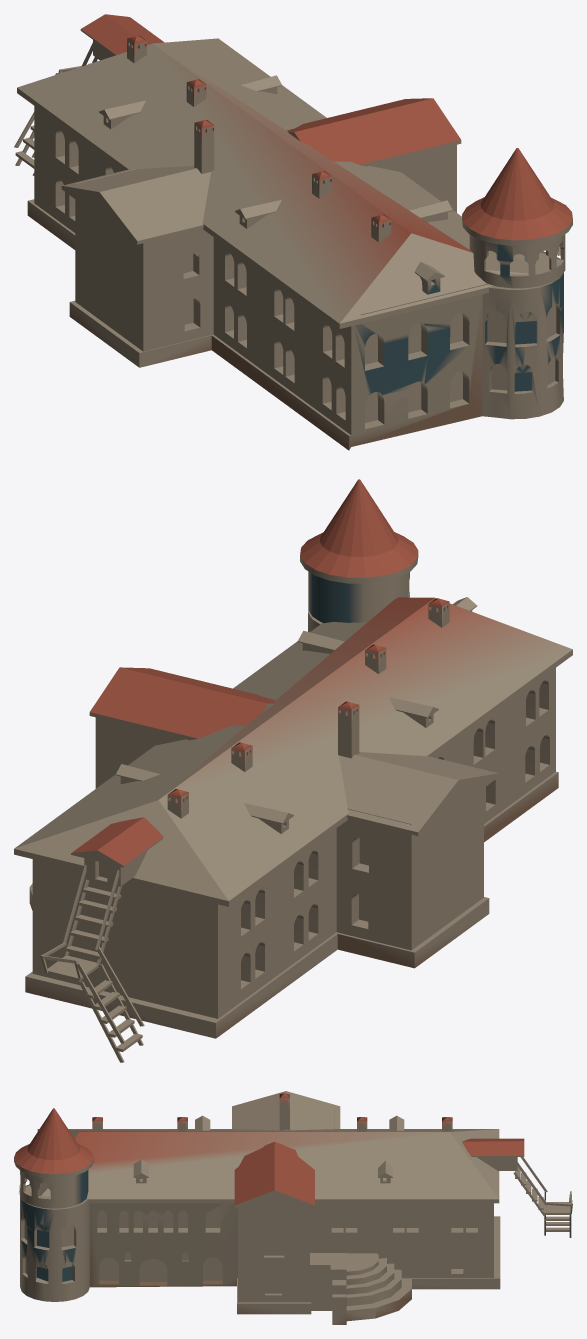
The picture shows the model from 3 angles, top to bottom: view 1: azimuth 30°, elevation 25°; view 2: azimuth 150°, elevation 25°; view 3: azimuth 270°, elevation 25°; orthographic projection. The views are drawn at different scales.
Visible parts, largest first — view 1: pCube123:PIV; view 2: pCube123:PIV; view 3: pCube123:PIV.
Part boxes in pixels (<box>): pCube123:PIV: <box>14,14,572,450</box>; pCube123:PIV: <box>14,479,572,1062</box>; pCube123:PIV: <box>14,1091,572,1324</box>.
Size of the model in its own units: 27.57 by 19.48 by 53.58.
